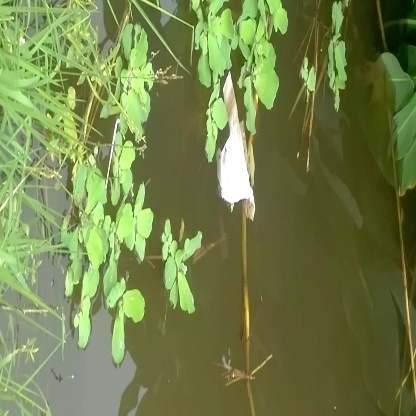plastic-bag: (208, 76, 264, 226)
